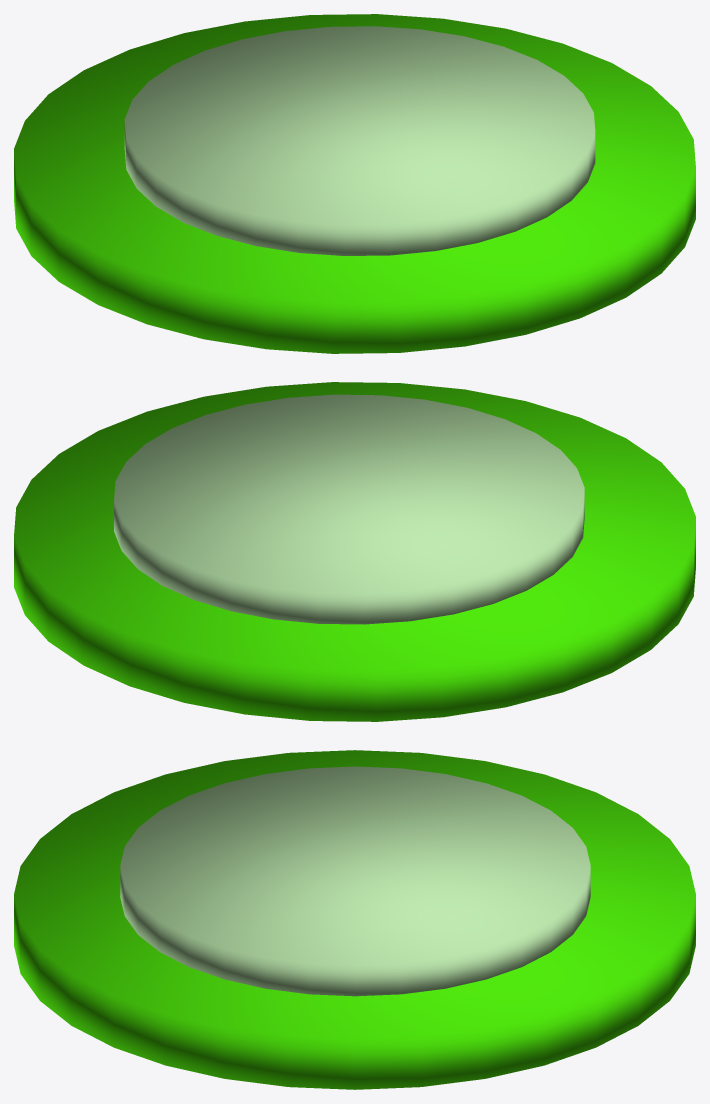
The model's file is greenPlate.fbx.
3 views of the same model, one above another, from view 1: azimuth 30°, elevation 25°; view 2: azimuth 150°, elevation 25°; view 3: azimuth 270°, elevation 25° (orthographic).
Parts seen in each view (by area): view 1: Cylinder, Cylinder.001; view 2: Cylinder, Cylinder.001; view 3: Cylinder, Cylinder.001.
Boxes of the visible parts, left/top/right/bottom form: Cylinder: left=14, top=14, right=695, bottom=353; Cylinder.001: left=124, top=26, right=595, bottom=255; Cylinder: left=14, top=382, right=695, bottom=721; Cylinder.001: left=114, top=394, right=584, bottom=624; Cylinder: left=14, top=750, right=695, bottom=1089; Cylinder.001: left=120, top=766, right=590, bottom=996.
Size of the model in its own units: 120 by 16.01 by 120.
